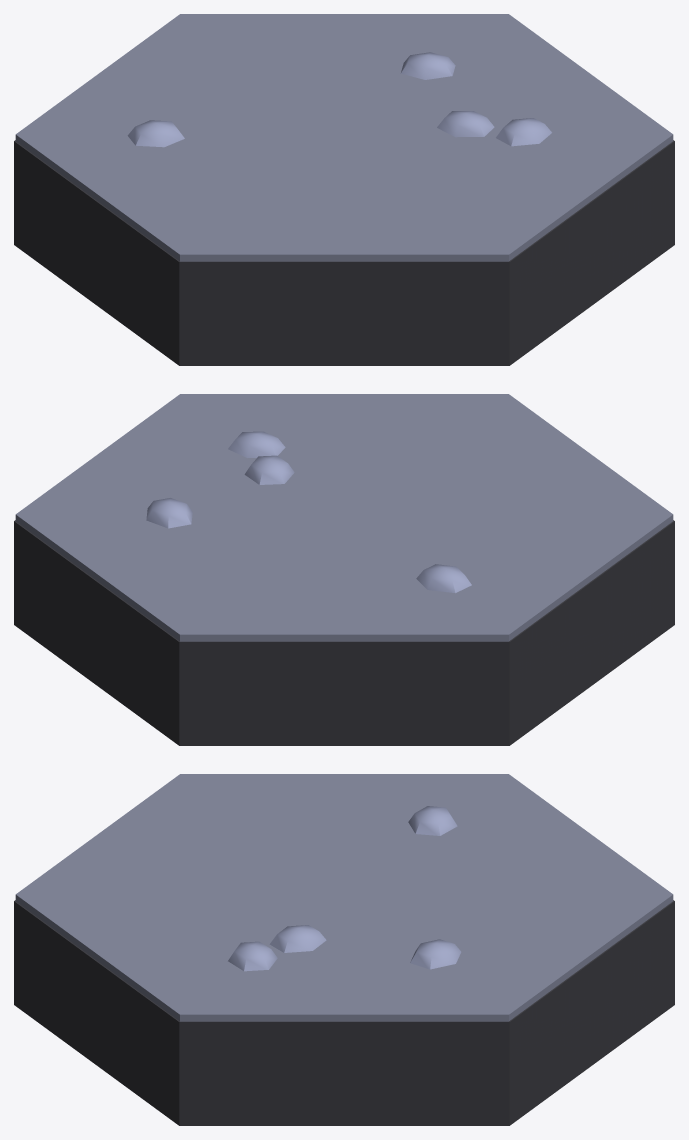
File: stone.glb
3 views of the same model, one above another, from view 1: azimuth 30°, elevation 25°; view 2: azimuth 150°, elevation 25°; view 3: azimuth 270°, elevation 25° (orthographic).
Parts seen in each view (by area): view 1: stone; view 2: stone; view 3: stone.
Part boxes in pixels (<box>): stone: <box>14,14,674,365</box>; stone: <box>14,394,674,745</box>; stone: <box>14,774,674,1125</box>.
Bounding box in the file's own units: 1 × 0.24 × 1.15.
Materials: 1 (1 with a texture image).
